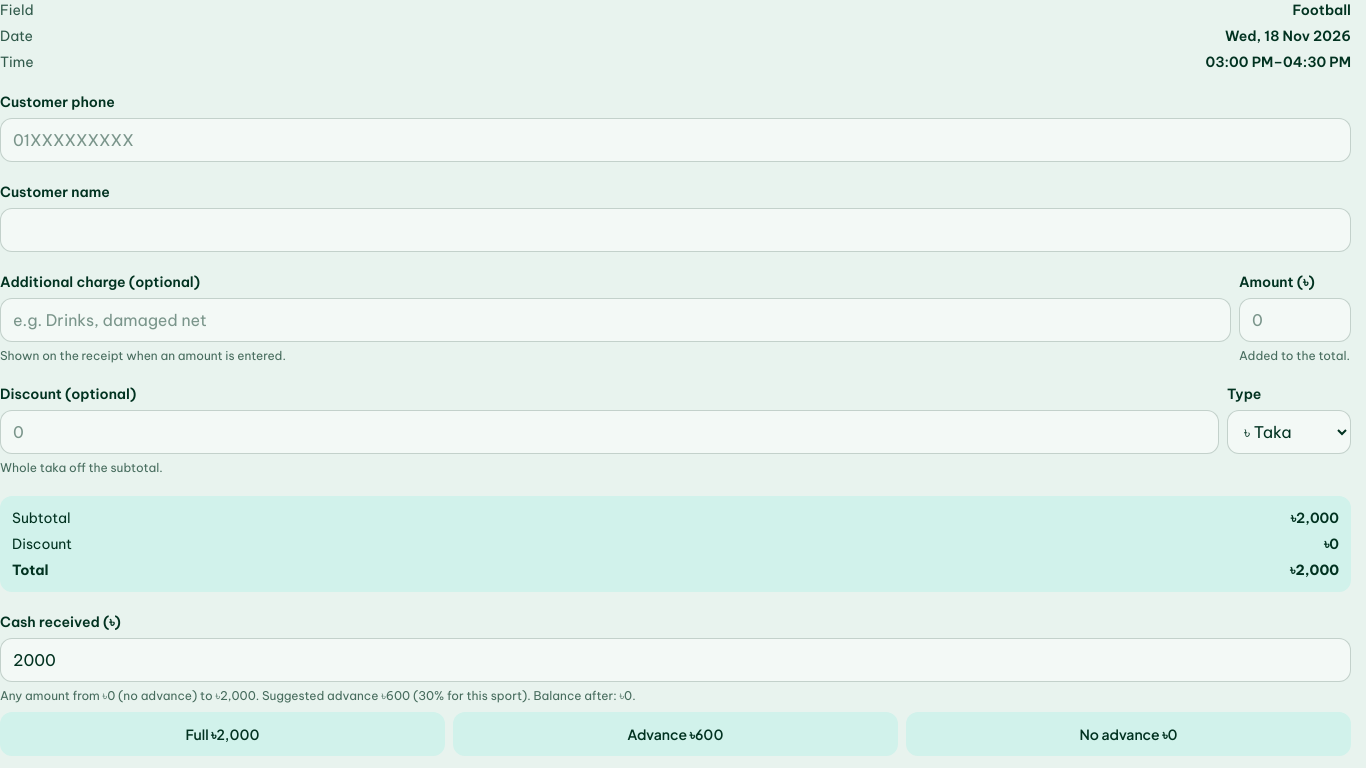
Test: WalkInForm discount › a taka discount shows subtotal, discount and total; cash follows the total
This screenshot has width=1366, height=768.
Expected: the button "Full ৳2,000" is shown, [0,712,445,756]
Type "300" into the number field labelled "Discount (optional)". click: [610, 432]
box: [0,410,1219,454]
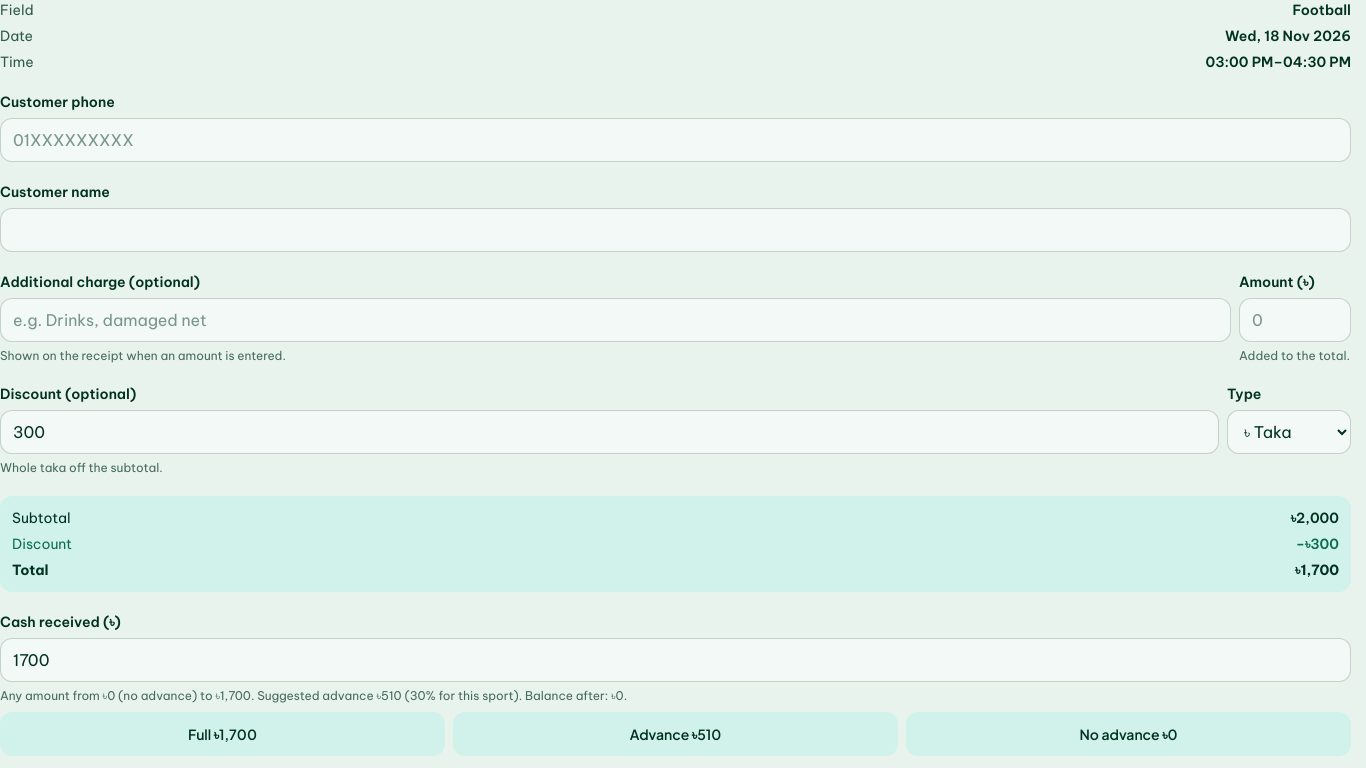
Expected: the text "Discount" shows "−৳300", [1296,535,1339,553]
Expected: the text "Total" shows "৳1,700", [1295,561,1339,579]
Expected: the number field labelled "Cash received (৳)" holds "1700", [0,638,1351,682]
Type "01733334444" into the field labelled "Customer phone". click: [676, 140]
box: [0,118,1351,162]
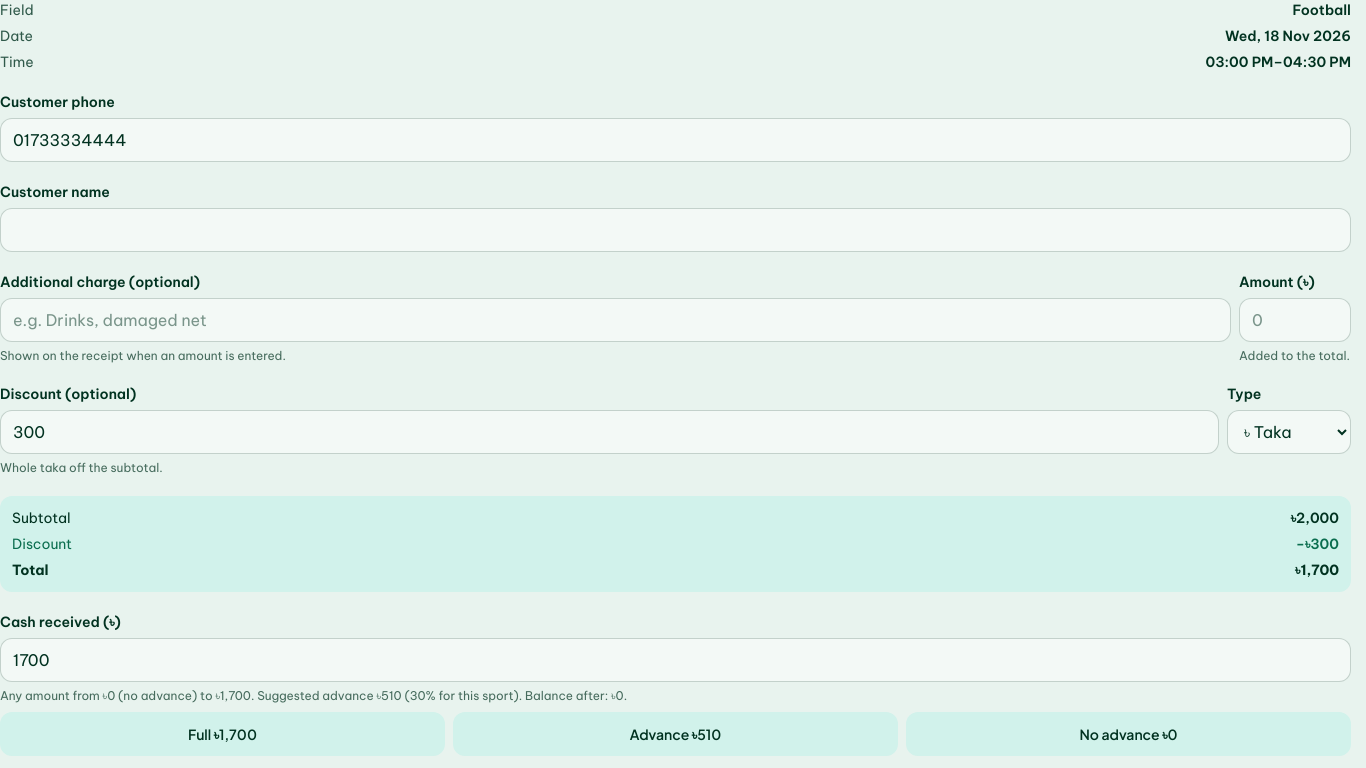
Type "Karim" into the field labelled "Customer name". click: [676, 230]
box: [0,208,1351,252]
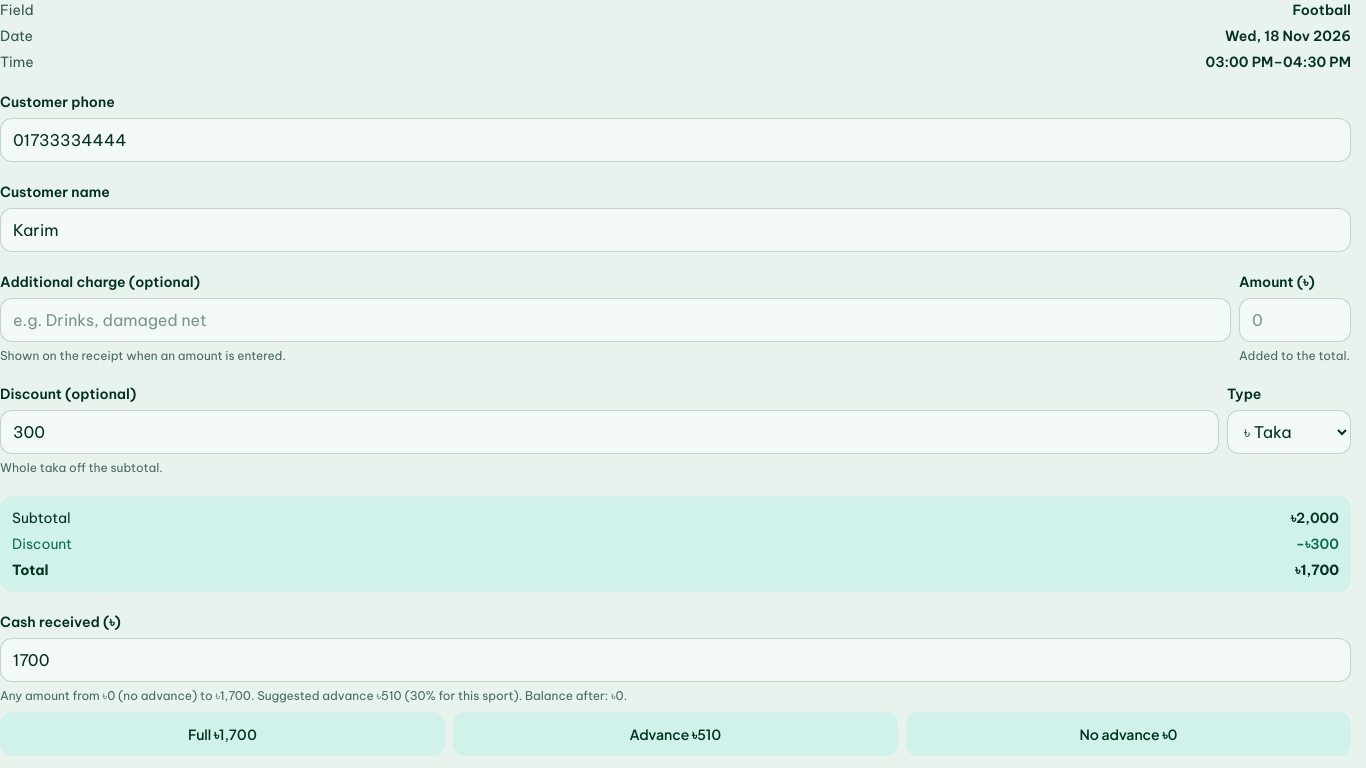
Click the button "Advance ৳510". click: [676, 734]
box: [453,712,898,756]
(page scrolled)
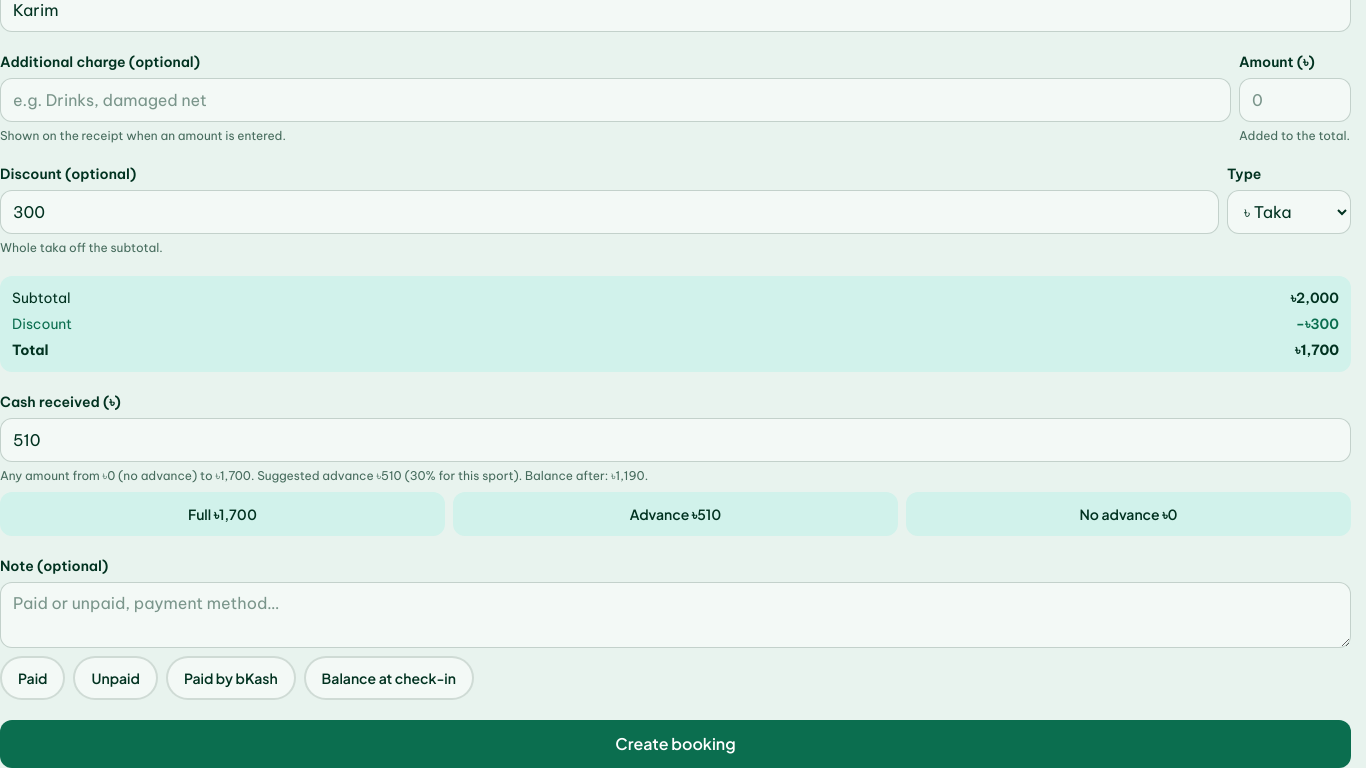
Click the button "Create booking". click: [676, 744]
box: [0,720,1351,767]
(page scrolled)
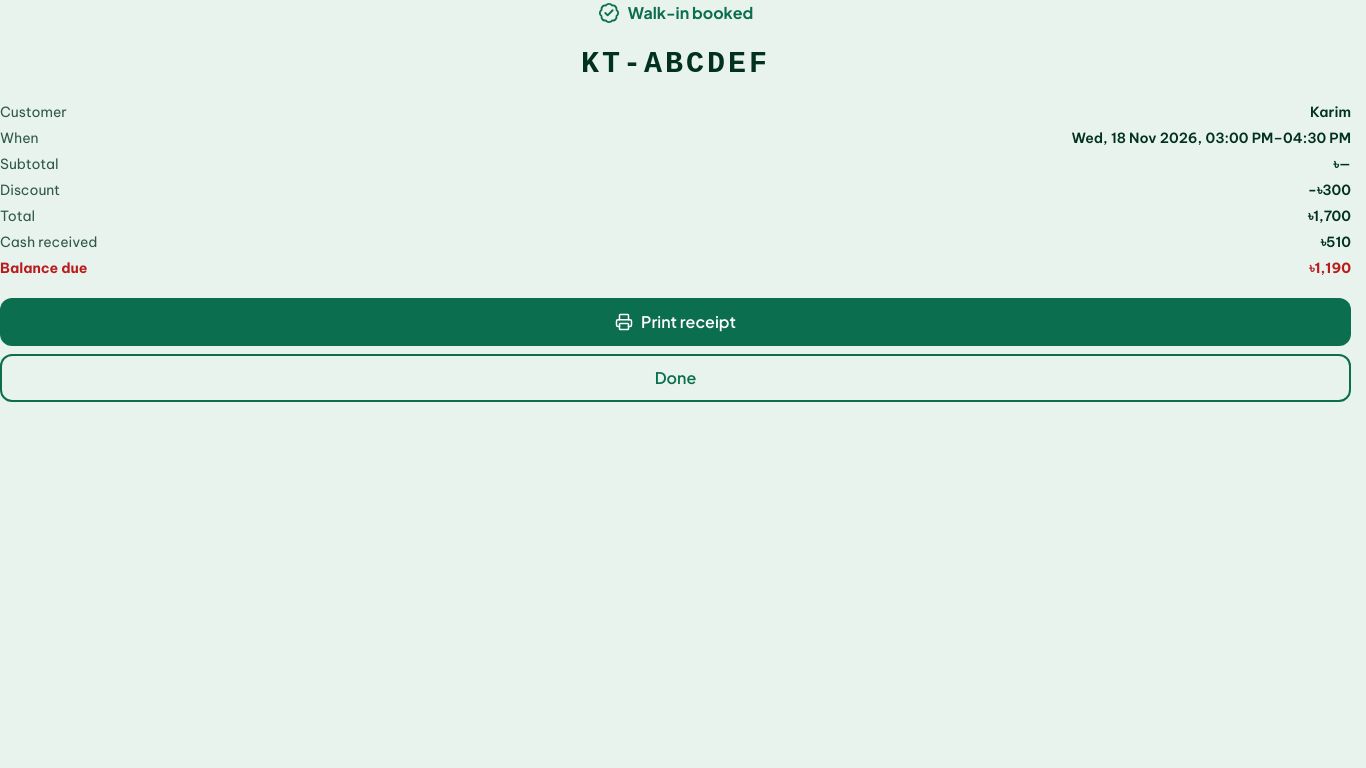
Expected: the text "Discount" shows "−৳300", [1308,181,1351,199]
Expected: the text "Walk-in booked" is shown, [598,0,753,26]
